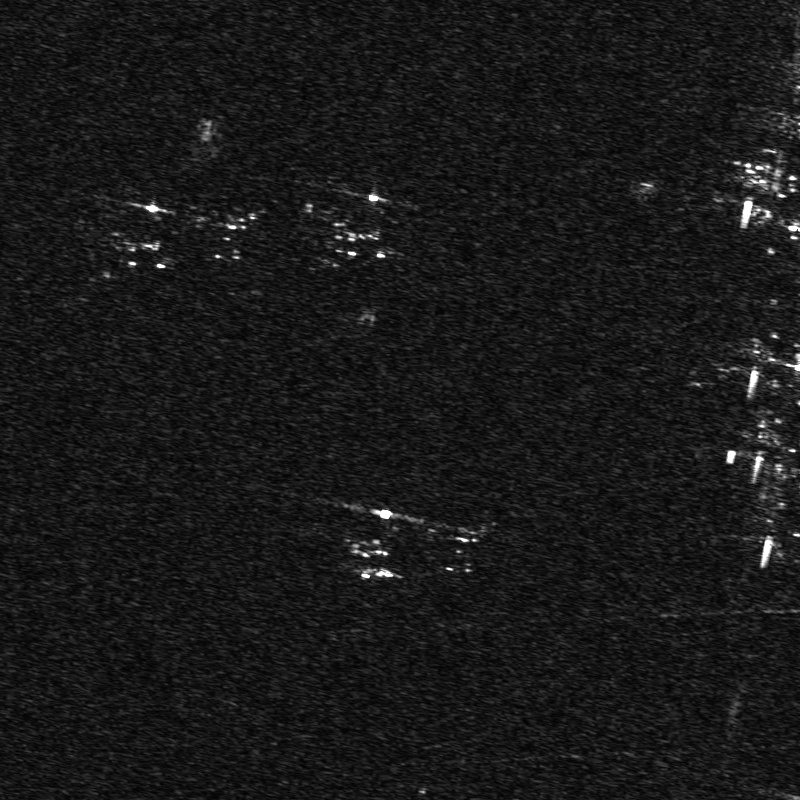A220: (428, 515, 493, 576)
other: (316, 495, 426, 588), (305, 179, 404, 264), (96, 192, 176, 275), (193, 195, 279, 268)
